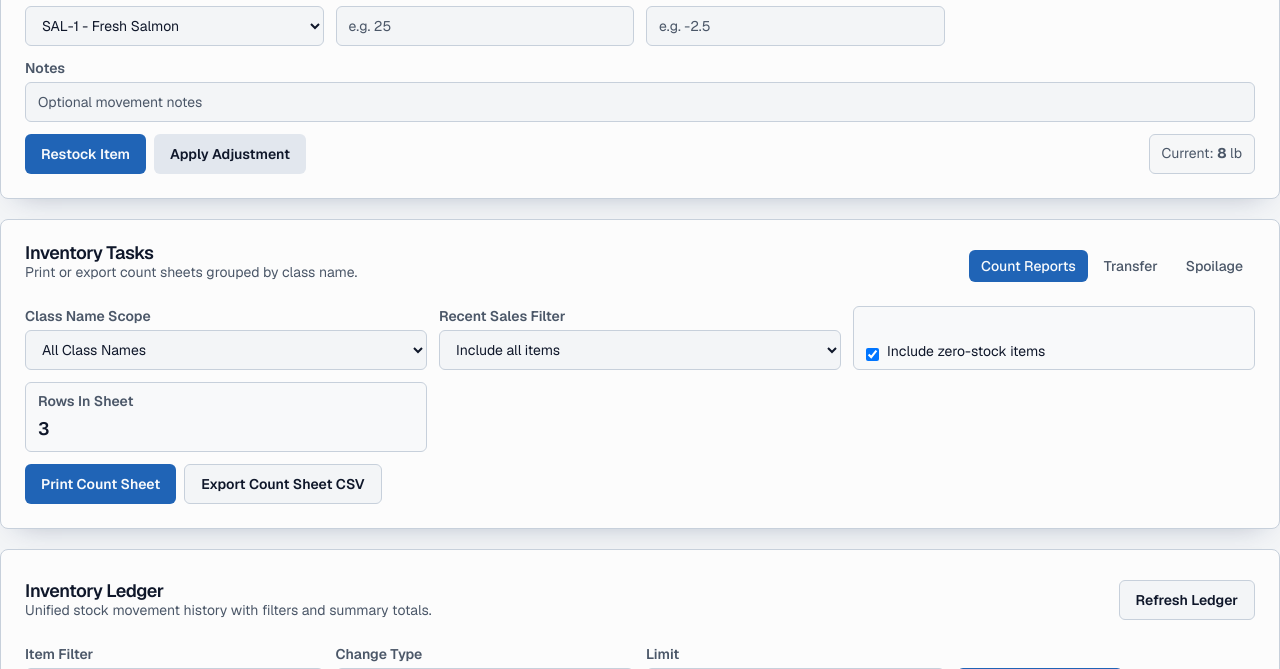
InventoryPage › explains why count sheets are empty when filters exclude every row
(page scrolled)
Select "Seafood" in the dropdown labelled "Class Name Scope" at coordinates (226, 350), box [25,330,427,370]
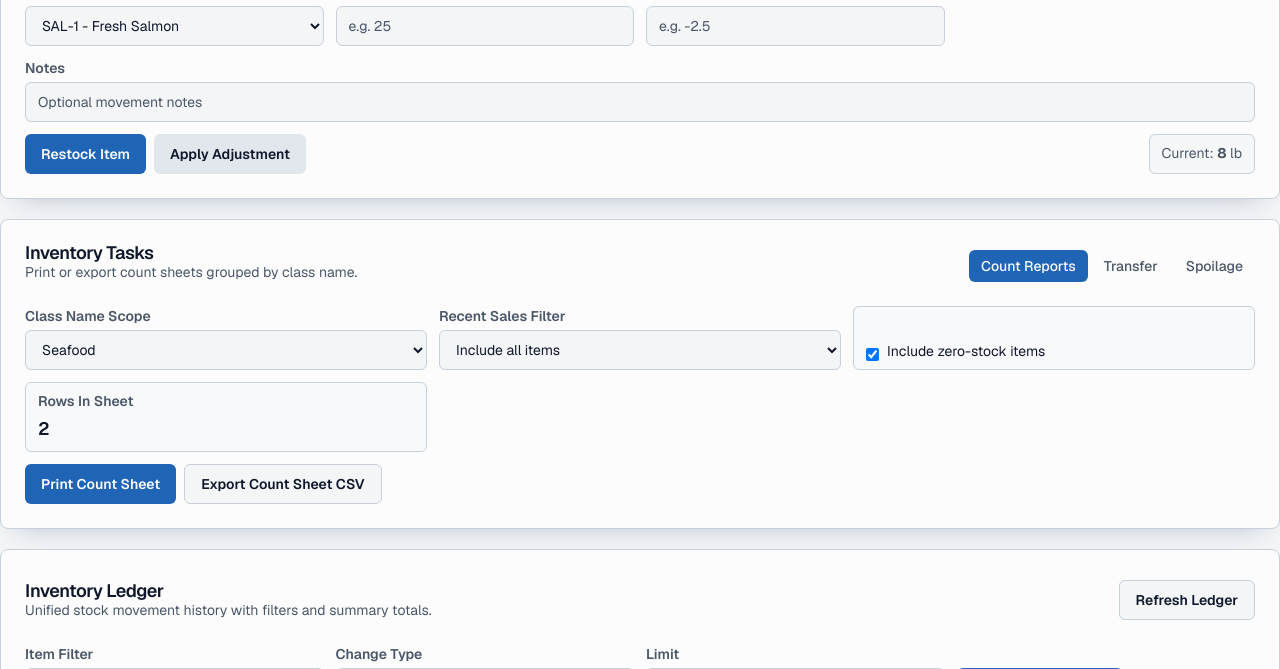
Select "Exclude items not sold in 30 days" in the dropdown labelled "Recent Sales Filter" at coordinates (640, 350), box [439,330,841,370]
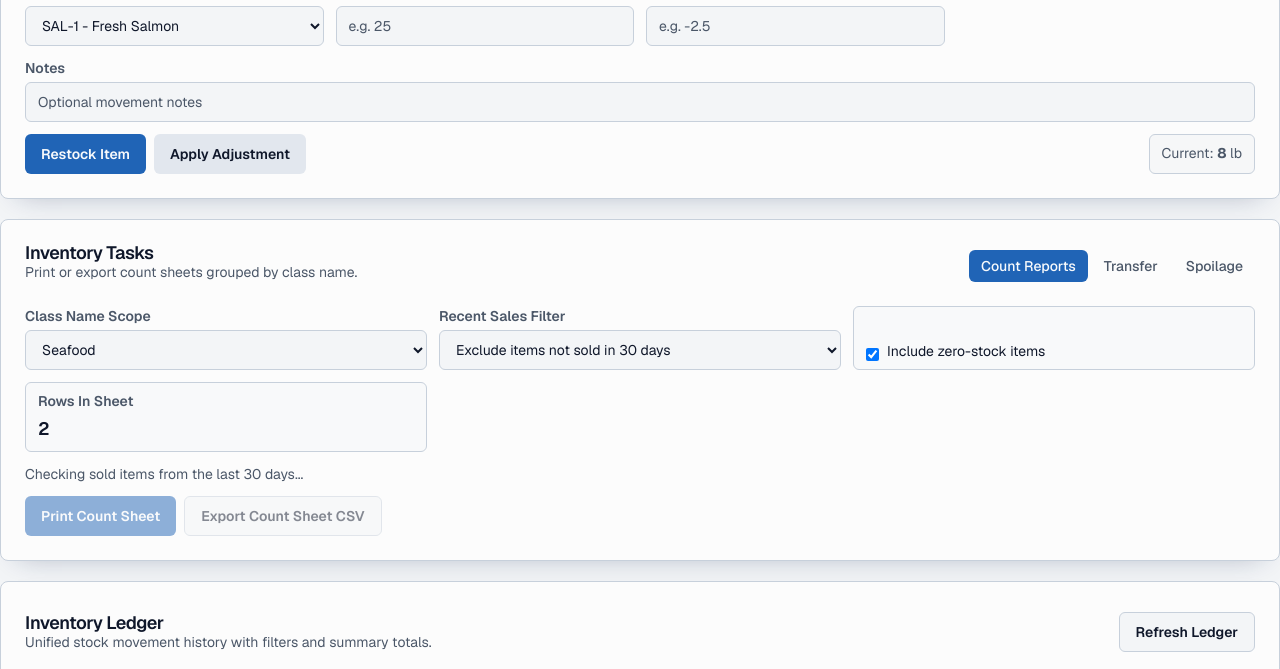
Click the checkbox labelled "Include zero-stock items" at coordinates (872, 354), box [866,348,879,361]
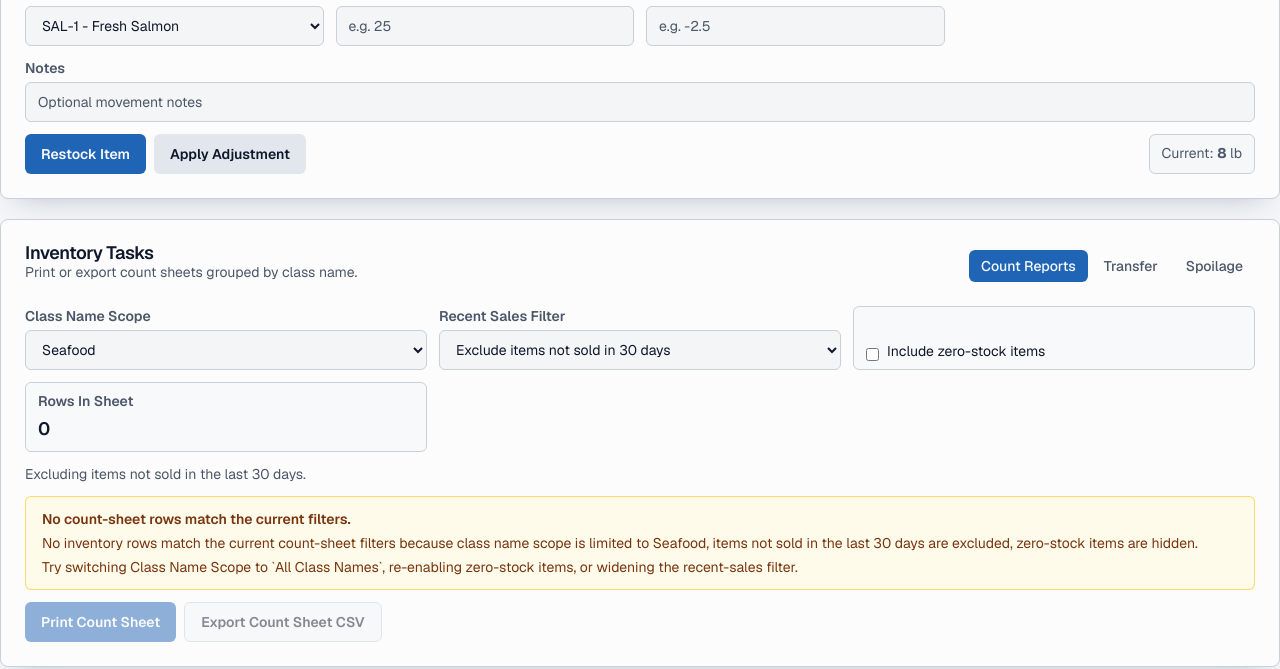
Expected: the button "Print Count Sheet" is disabled, [25,602,176,642]
Expected: the text "No count-sheet rows match the current filters." is shown, [42,510,351,528]
Expected: the text "class name scope is limited to Seafood" is shown, [42,534,1198,552]
